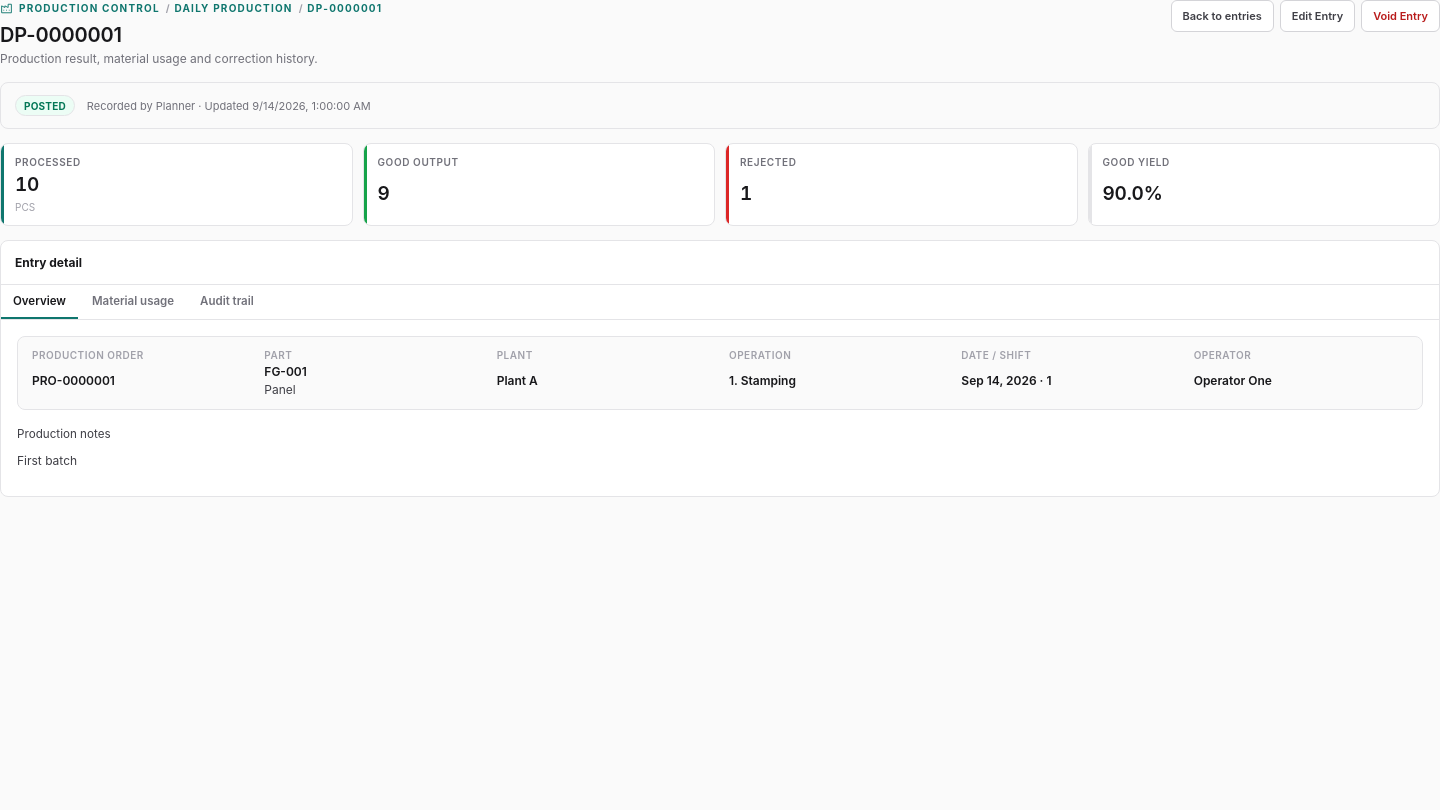
Scenario: voids with a reason and version and preserves the detail record
Click the button "Void Entry" at {"x": 1401, "y": 16}, box [1361, 0, 1439, 32]
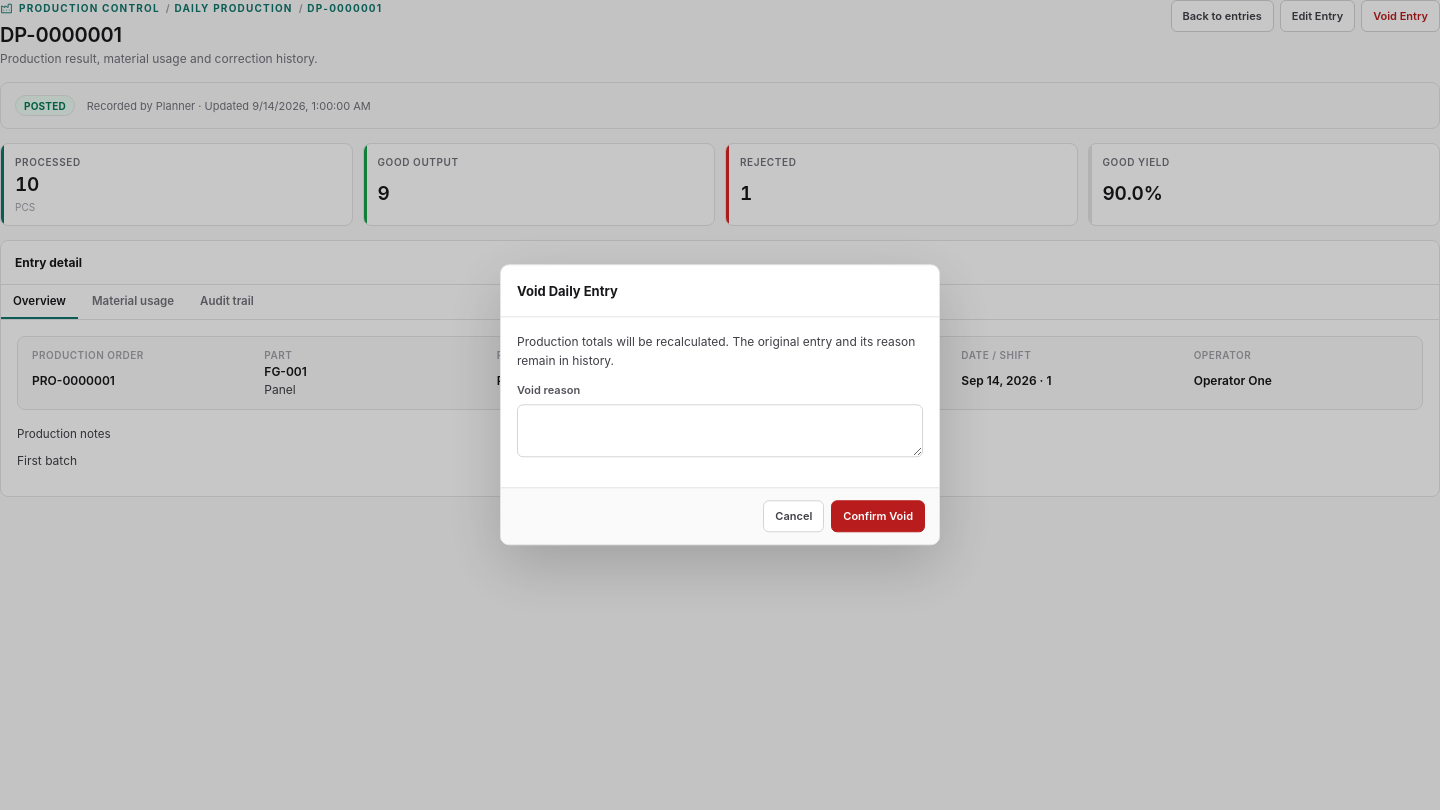
Type "Duplicate" into the text box labelled "Void reason" at {"x": 720, "y": 431}, box [517, 404, 923, 458]
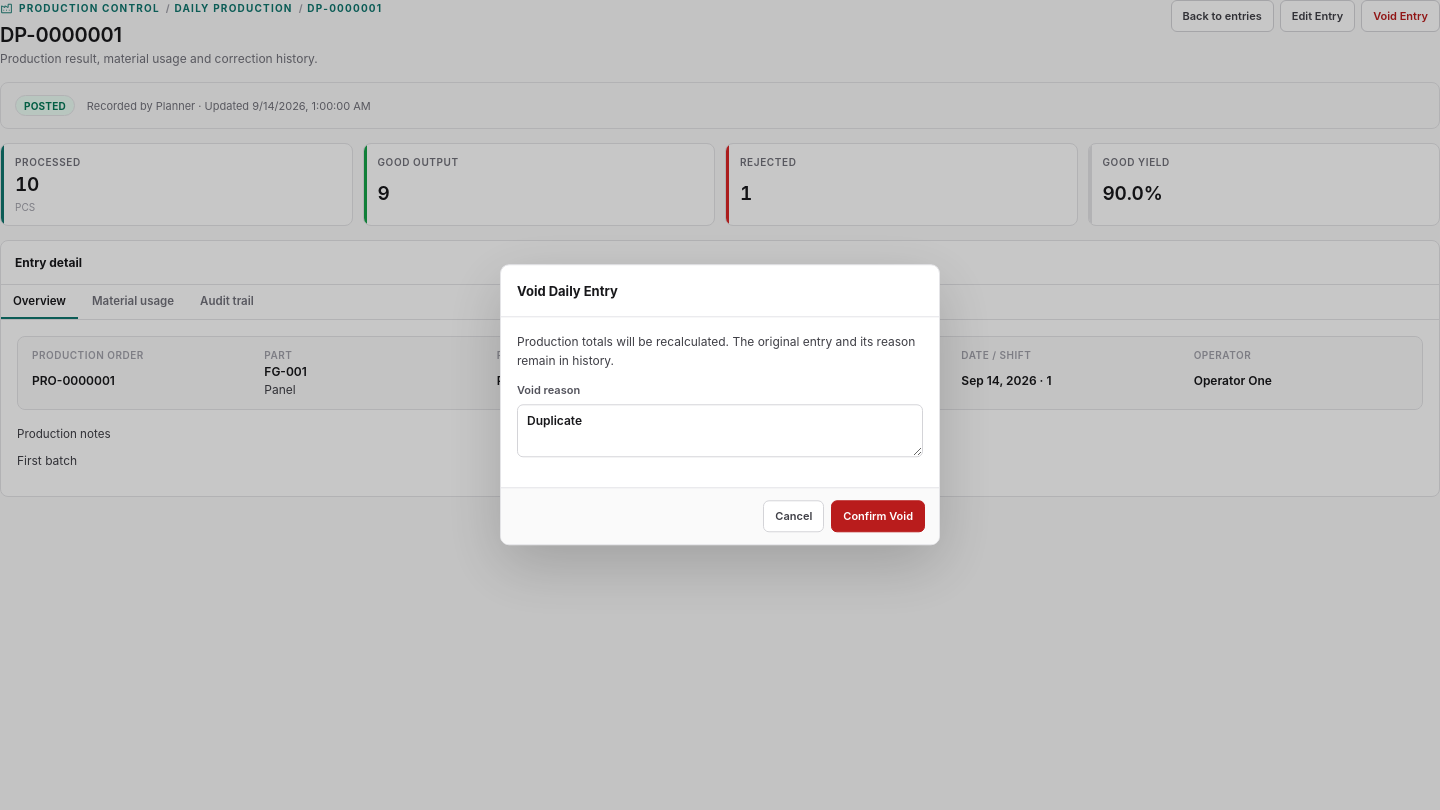
Click the button "Confirm Void" at {"x": 878, "y": 517}, box [831, 501, 925, 533]
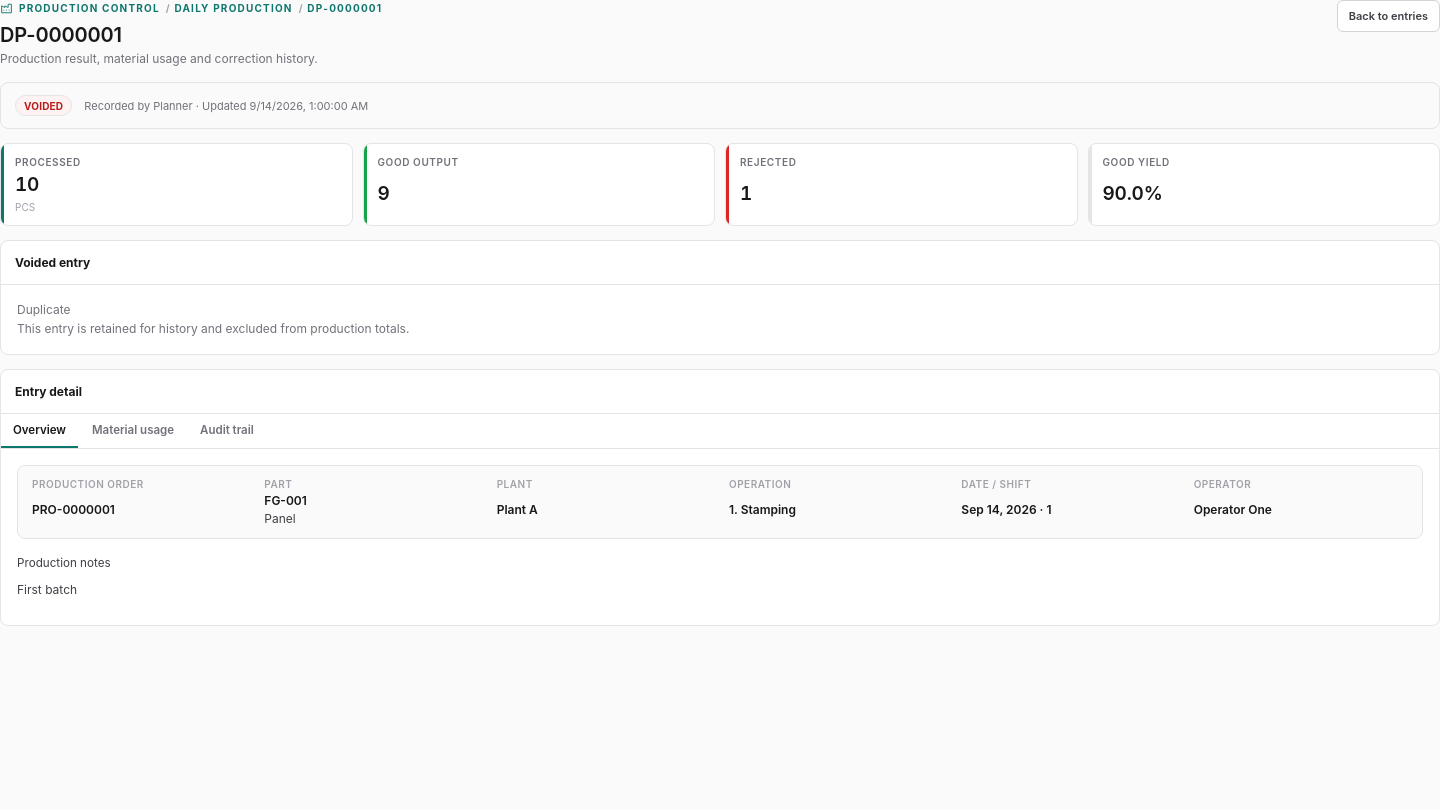
expect the text "VOIDED" is shown: met, box [15, 95, 72, 116]
